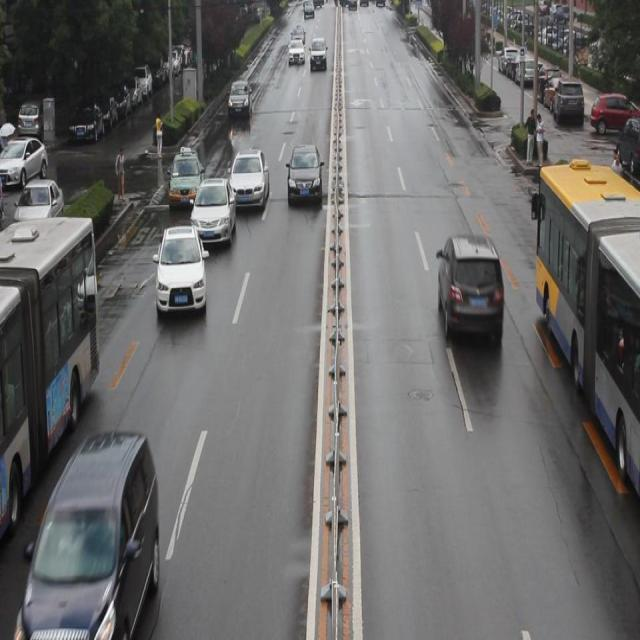car: (24, 436, 160, 631), (435, 231, 504, 347), (153, 226, 207, 319), (190, 178, 237, 246), (228, 150, 271, 213), (168, 146, 205, 210), (286, 145, 322, 205), (227, 78, 250, 119)
van: (529, 170, 640, 495), (1, 216, 99, 532)
